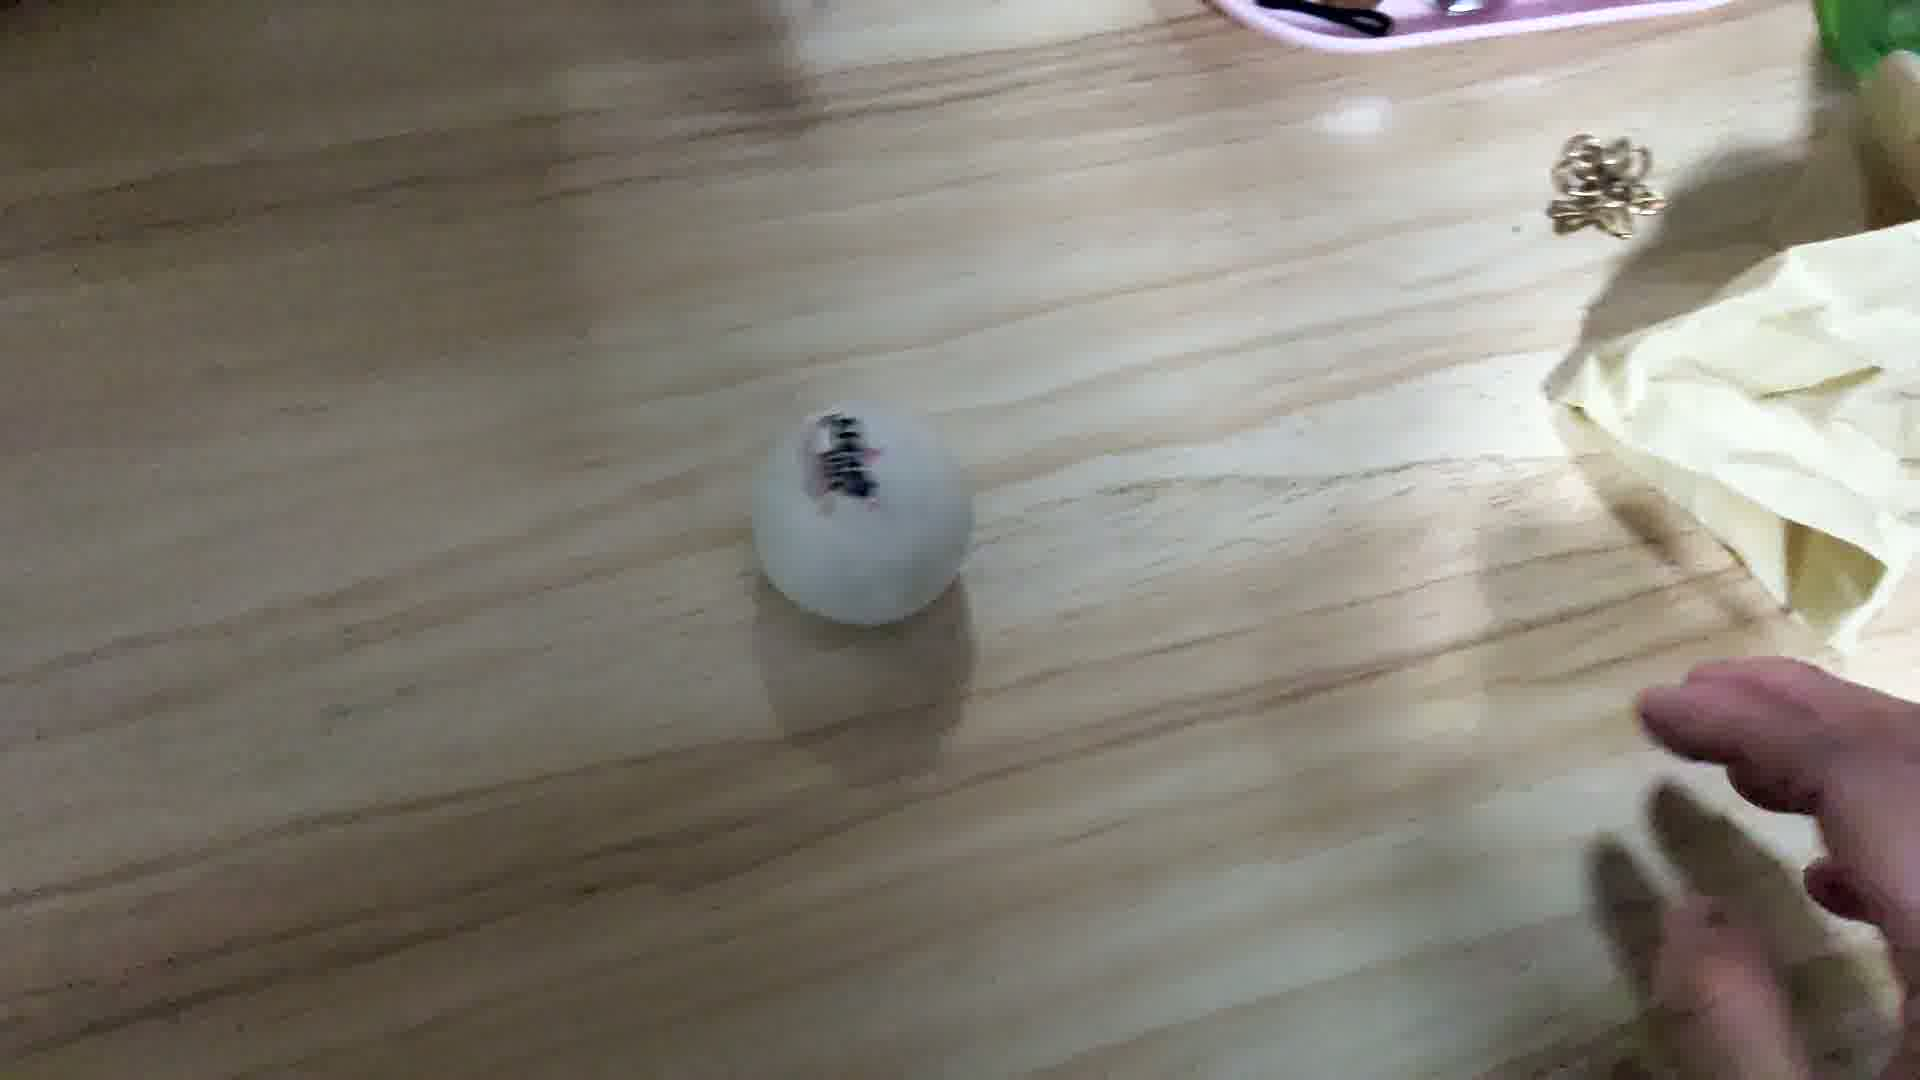Ball: (749, 400, 971, 629)
